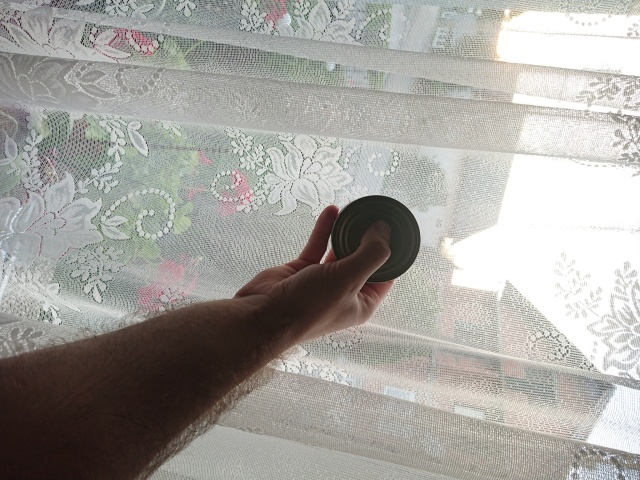Podravka Luncheon Meat 150g: (329, 194, 423, 285)
